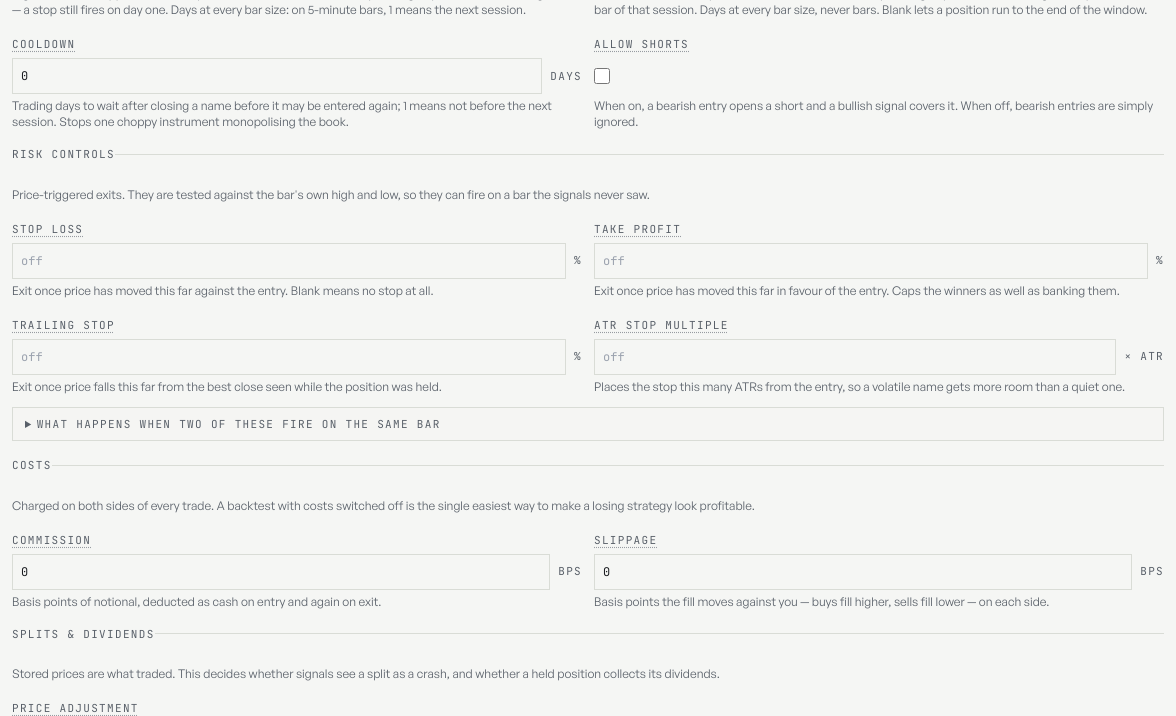
Test case: ExecutionForm › asks for the ATR period only once there is an ATR stop to measure
The width and height of the screenshot is (1176, 716).
(page scrolled)
In the number field labelled "ATR stop multiple": (855, 356) [594, 338, 1116, 374], type "2"
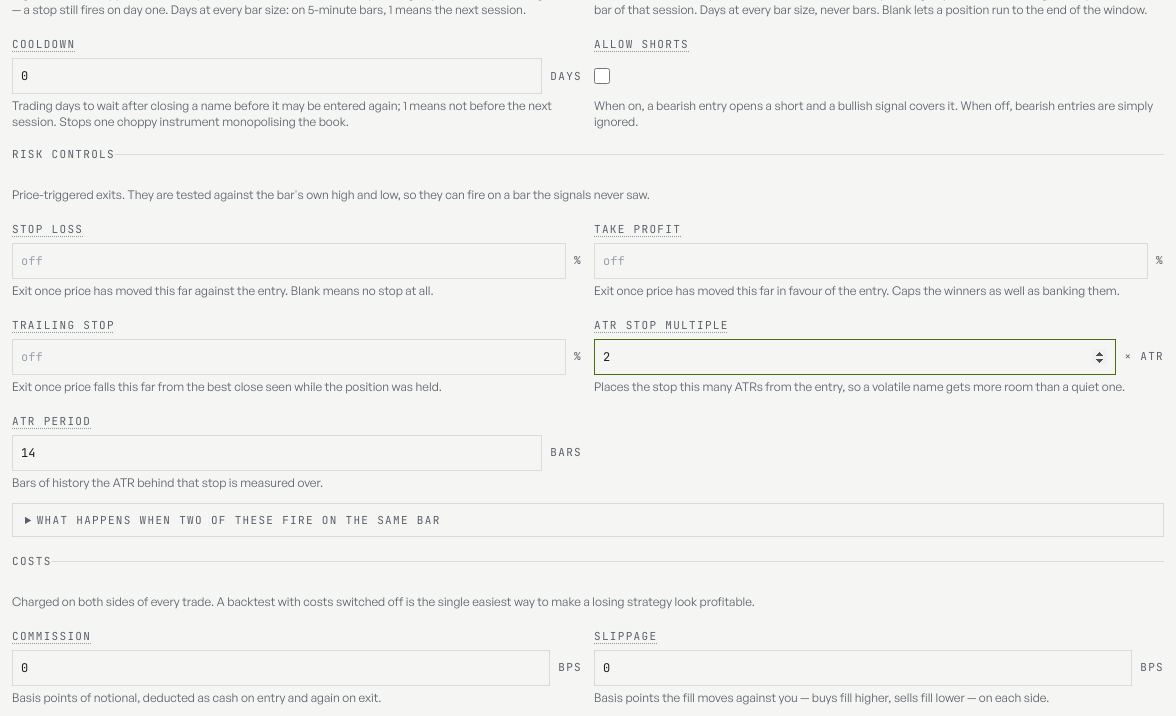
Result: the number field with test id "execution-atr-period" holds "14" at [12, 434, 542, 470]
